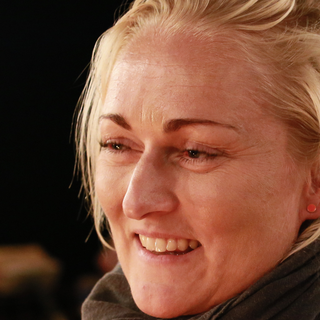eye: (173, 143, 220, 164), (96, 134, 135, 157)
